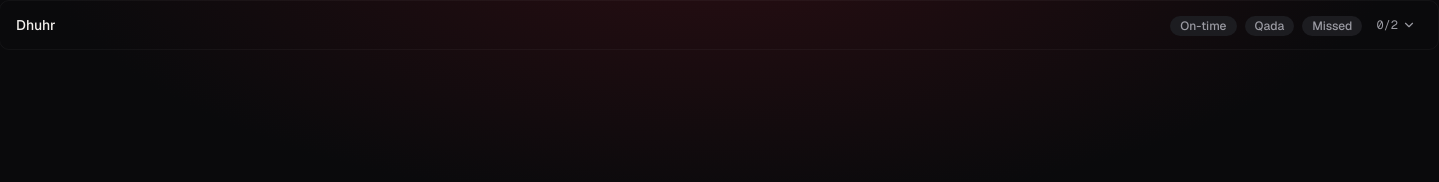
it: PrayerRow › sunnah disclosure › expands on click, with real aria-expanded/aria-controls semantics, and reveals the sunnah items
Click the button named "sunnah for dhuhr".
click(1396, 25)  # box [1370,13,1422,37]
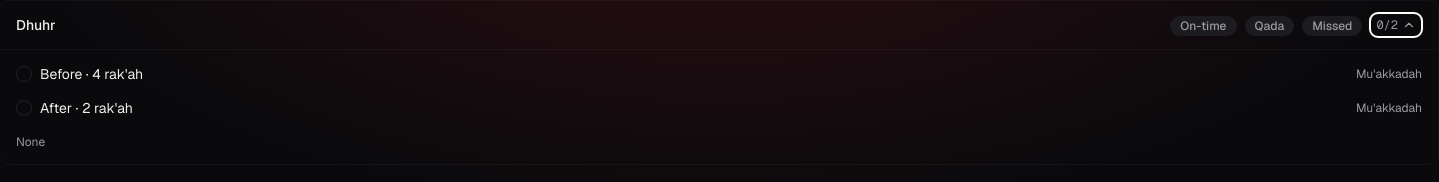
Result: the button named "sunnah for dhuhr" is expanded at [1370,13,1422,37]
Result: the text "Before · 4 rak'ah" is shown at [16,64,143,84]
Result: the text "After · 2 rak'ah" is shown at [16,98,133,118]
